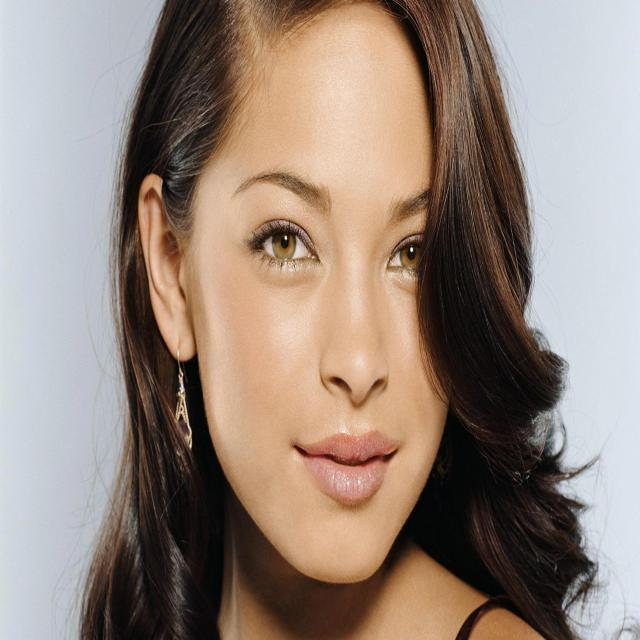no-earmuff: (136, 172, 195, 360)
